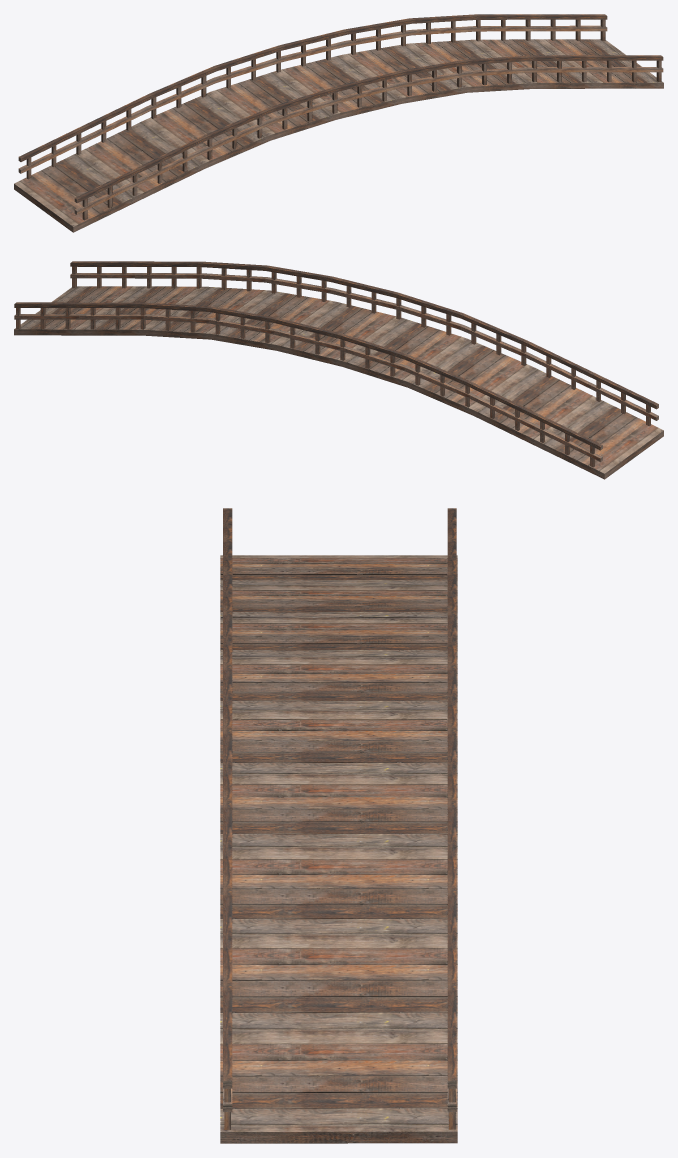
File: LilPonte.fbx
The picture shows the model from 3 angles, top to bottom: view 1: azimuth 30°, elevation 25°; view 2: azimuth 150°, elevation 25°; view 3: azimuth 270°, elevation 25°; orthographic projection. The views are drawn at different scales.
Visible parts, largest first — view 1: Cube.008; view 2: Cube.008; view 3: Cube.008.
Boxes of the visible parts, box(x1,y1,x2,y2) form: Cube.008: box(14, 14, 663, 232); Cube.008: box(14, 261, 663, 479); Cube.008: box(220, 508, 457, 1143).
Bounding box in the file's own units: 3460 × 445 × 602.
